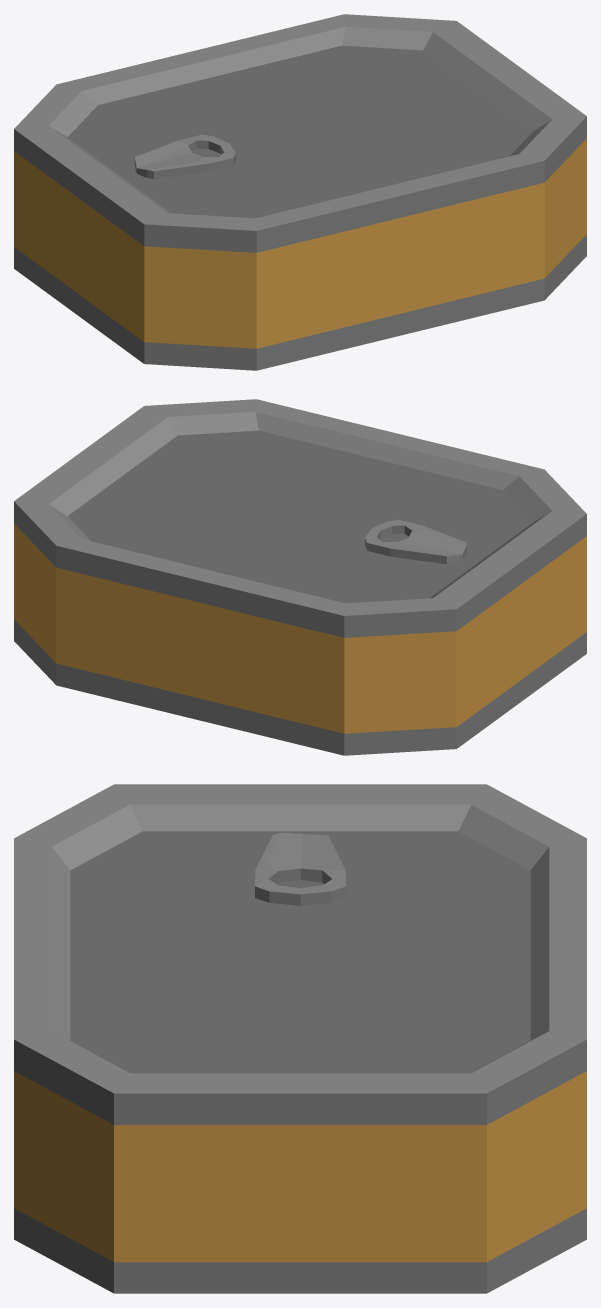
Rendered from CannedFood_04.fbx.
3 views of the same model, one above another, from view 1: azimuth 30°, elevation 25°; view 2: azimuth 150°, elevation 25°; view 3: azimuth 270°, elevation 25° (orthographic). The views are drawn at different scales.
Parts seen in each view (by area): view 1: CannedFood_04; view 2: CannedFood_04; view 3: CannedFood_04.
Part boxes in pixels (box(x1,y1,x2,y2)): CannedFood_04: box(14, 14, 586, 370); CannedFood_04: box(14, 399, 586, 755); CannedFood_04: box(14, 784, 586, 1293).
Bounding box in the file's own units: 15.14 × 4.57 × 11.86.
